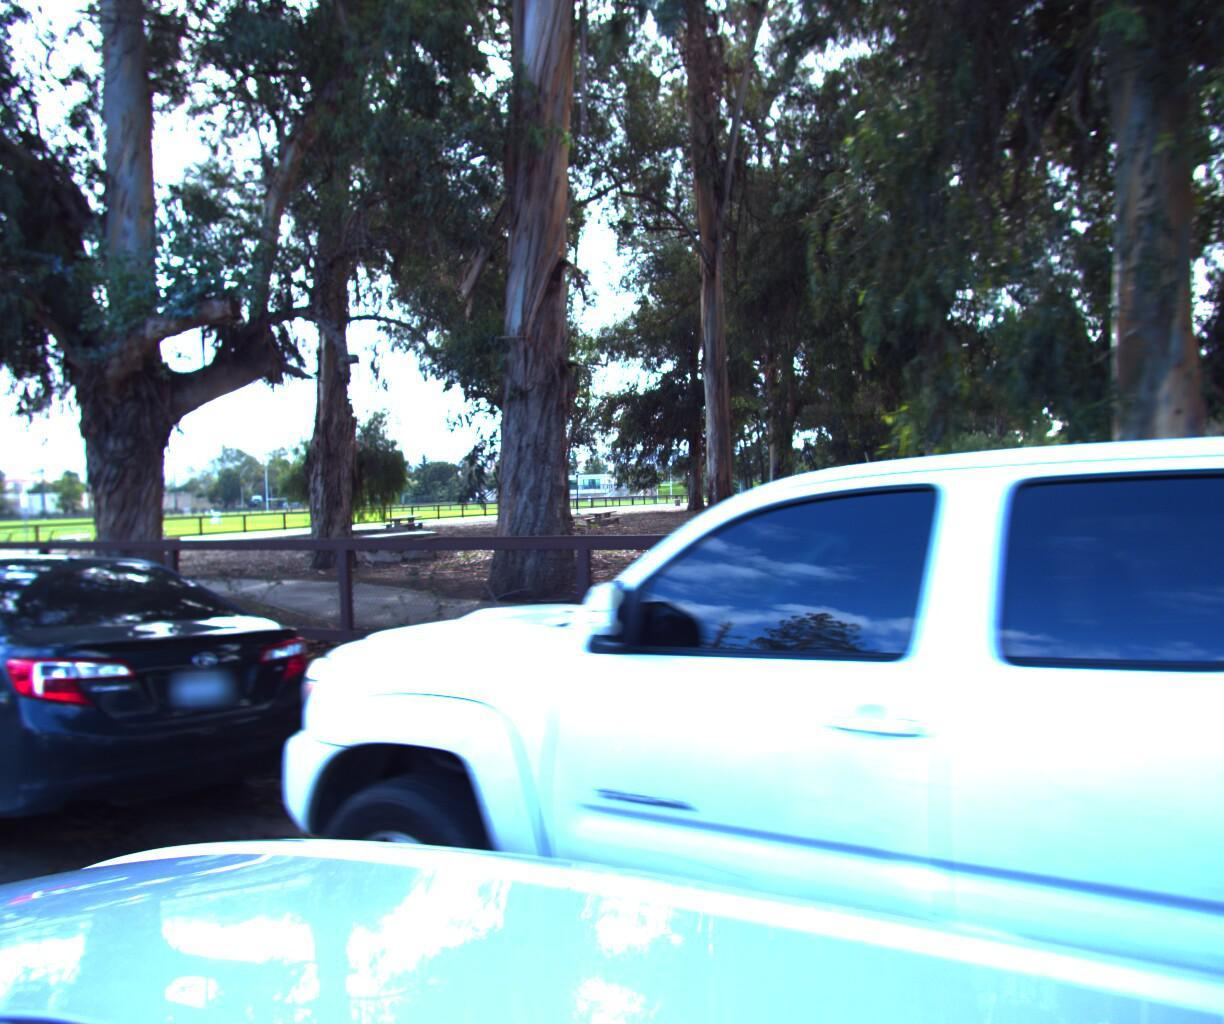car: (189, 0, 1224, 1024), (0, 528, 355, 902)
